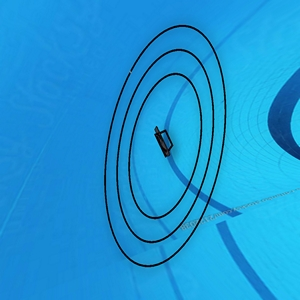circle: (102, 24, 228, 270)
submarine: (153, 126, 173, 159)
